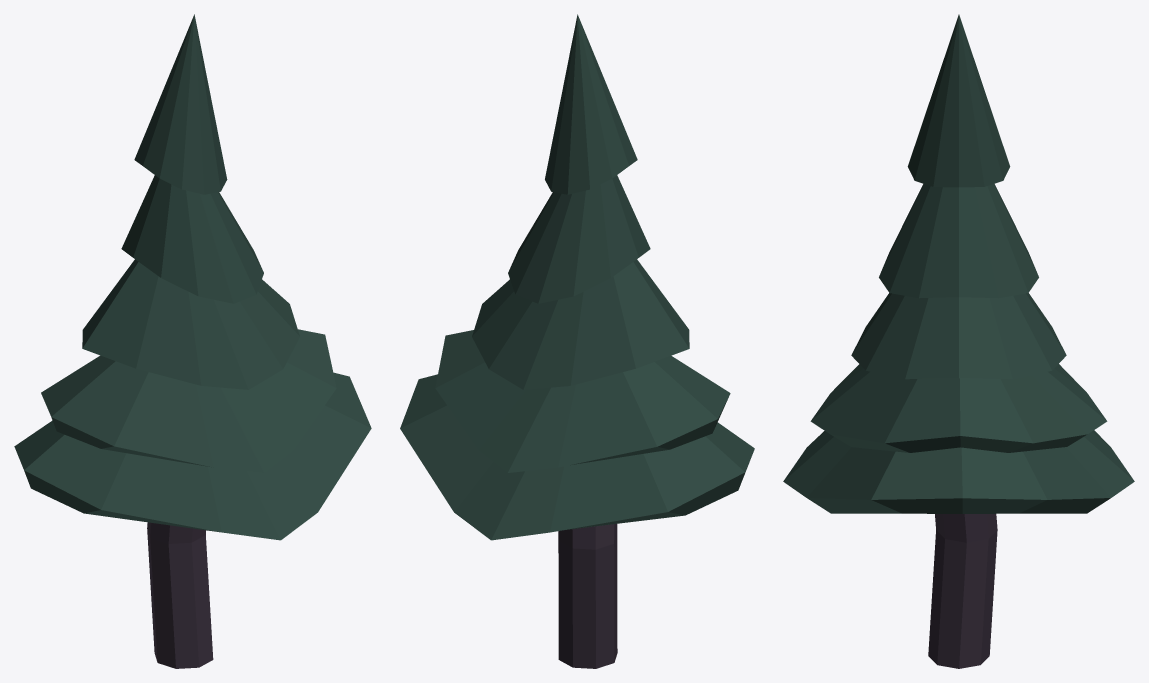
The model's file is Tree1.fbx.
3 views of the same model, side by side, from view 1: azimuth 30°, elevation 25°; view 2: azimuth 150°, elevation 25°; view 3: azimuth 270°, elevation 25° (orthographic).
Parts seen in each view (by area): view 1: Cone.001; view 2: Cone.001; view 3: Cone.001.
Part boxes in pixels (x1,y1,x2,y2): Cone.001: (14, 14, 371, 668); Cone.001: (400, 14, 754, 668); Cone.001: (783, 14, 1134, 668).
Bounding box in the file's own units: 55.51 × 104 × 51.26.
